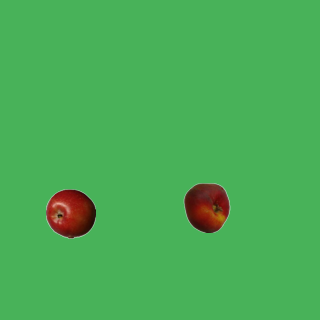Apple Braeburn: (45, 188, 95, 238)
Nectarine Flat: (181, 182, 231, 232)
